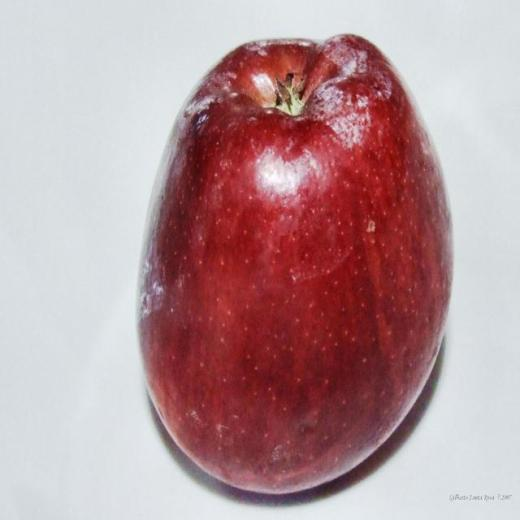Apple: (133, 29, 446, 502)
